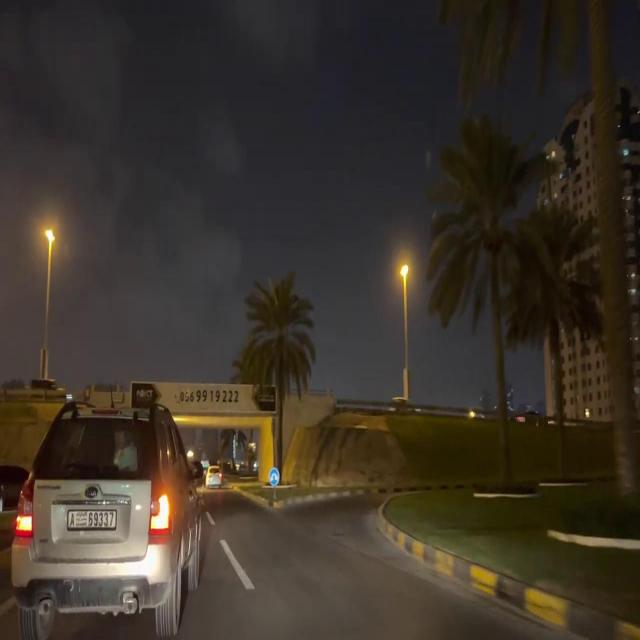License-plate: (68, 509, 117, 533)
